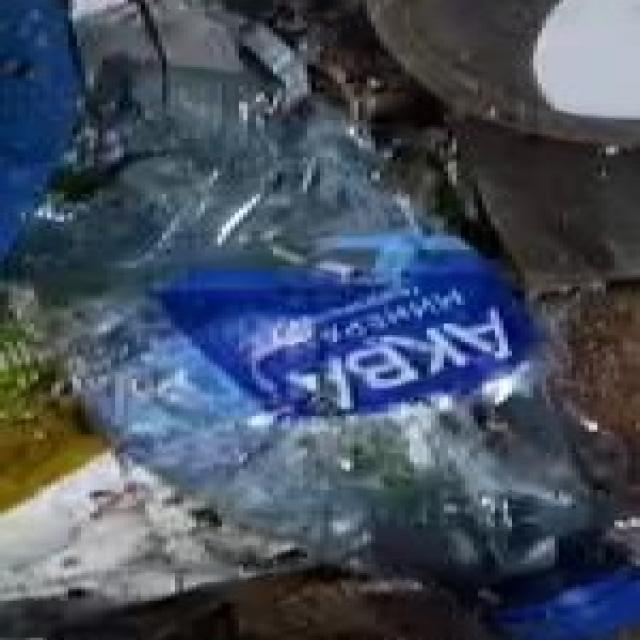litter: (0, 1, 640, 632)
